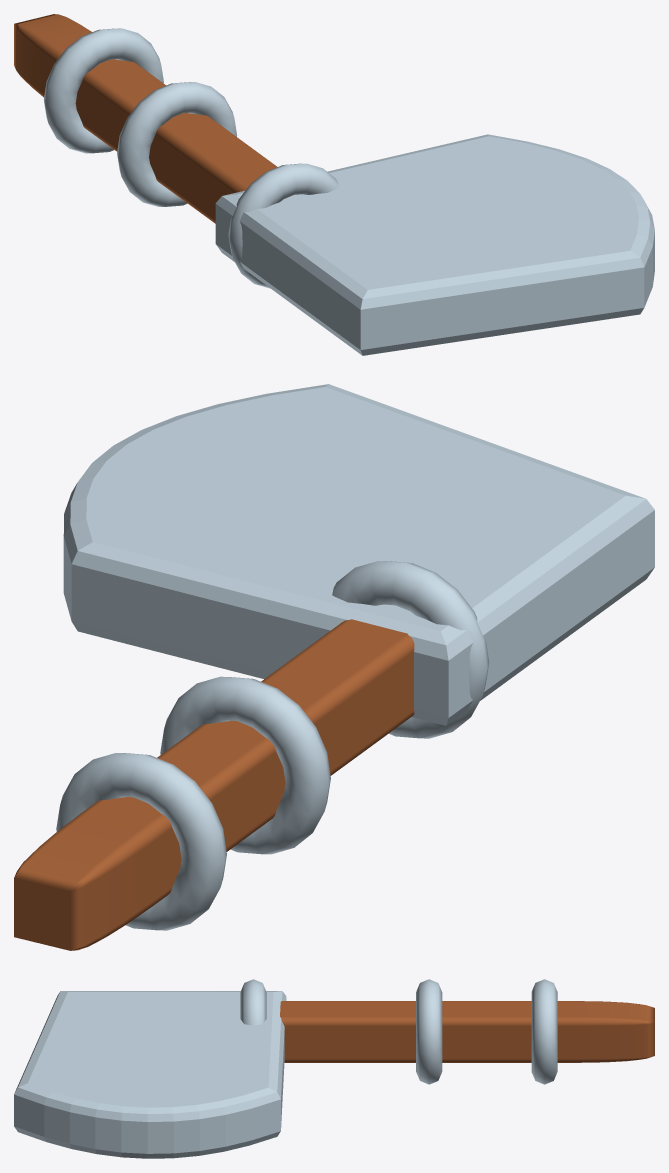
File: axe-0.glb
3 views of the same model, one above another, from view 1: azimuth 30°, elevation 25°; view 2: azimuth 150°, elevation 25°; view 3: azimuth 270°, elevation 25° (orthographic). The views are drawn at different scales.
Bounding box in the file's own units: 0.6061 × 0.212 × 1.28.
